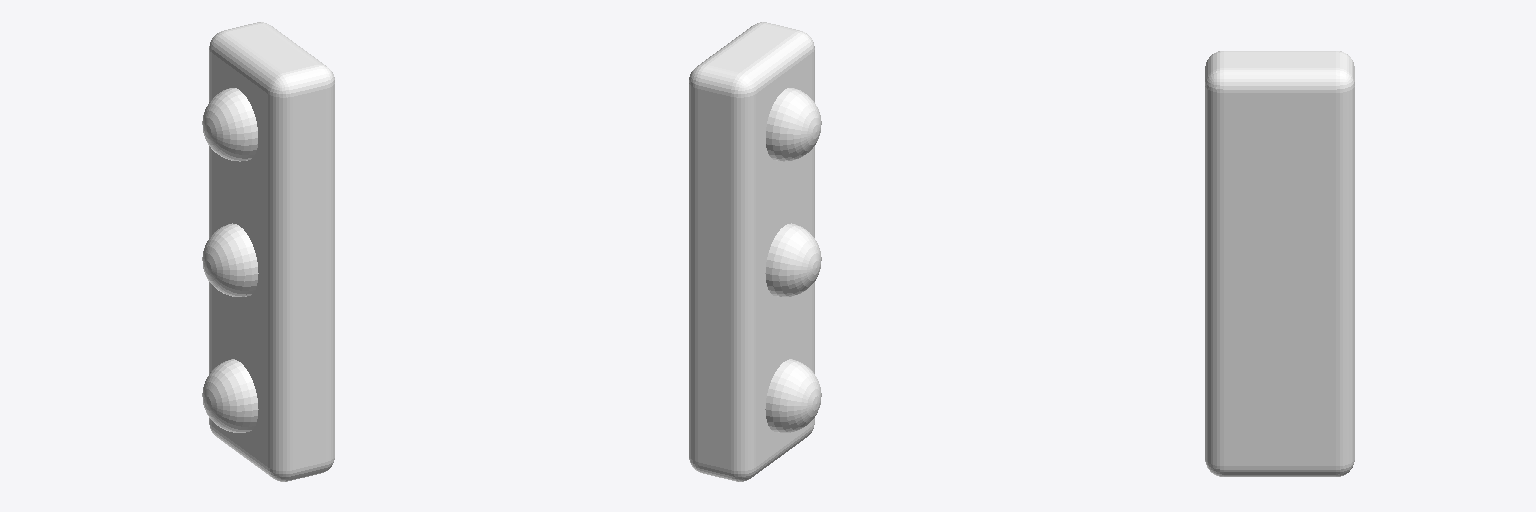
File: Paddle.obj
3 renders of one model, left to right at view 1: azimuth 30°, elevation 25°; view 2: azimuth 150°, elevation 25°; view 3: azimuth 270°, elevation 25°, orthographic.
Visible parts, largest first — view 1: Paddle; view 2: Paddle; view 3: Paddle.
Part boxes in pixels (bbox=[...]): Paddle: bbox=[202, 22, 334, 481]; Paddle: bbox=[689, 22, 821, 481]; Paddle: bbox=[1205, 51, 1354, 476].
Size of the model in its own units: 0.75 by 3 by 1.